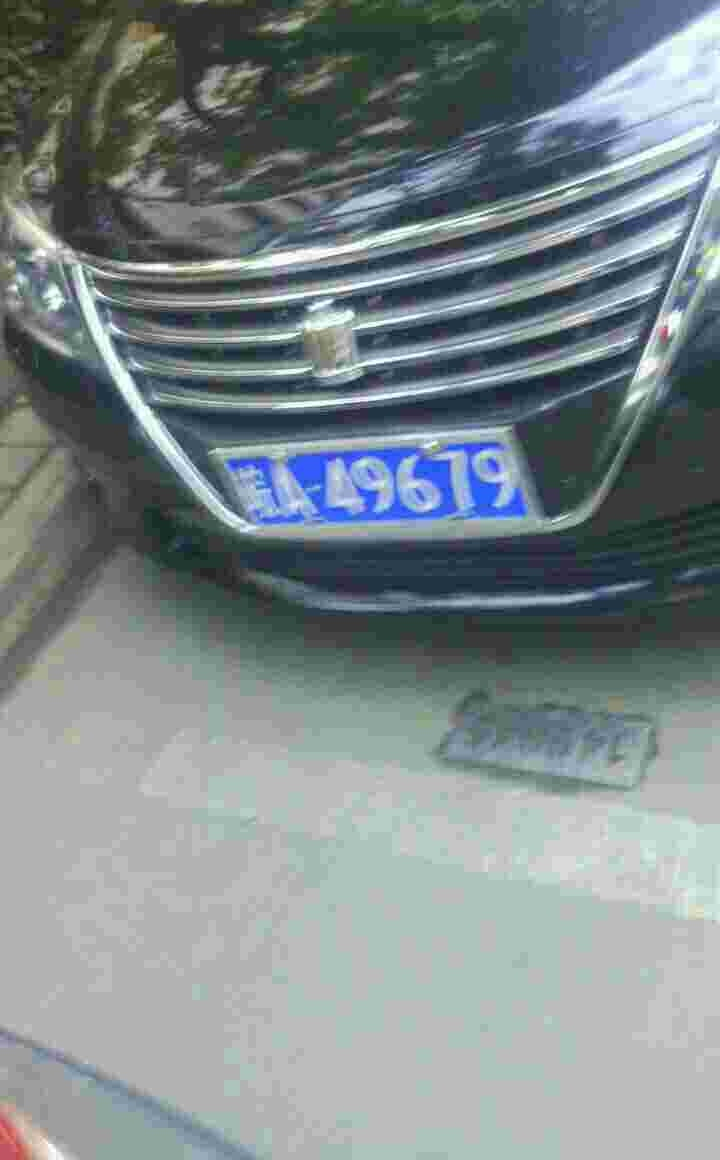license_plate: (239, 439, 526, 528)
